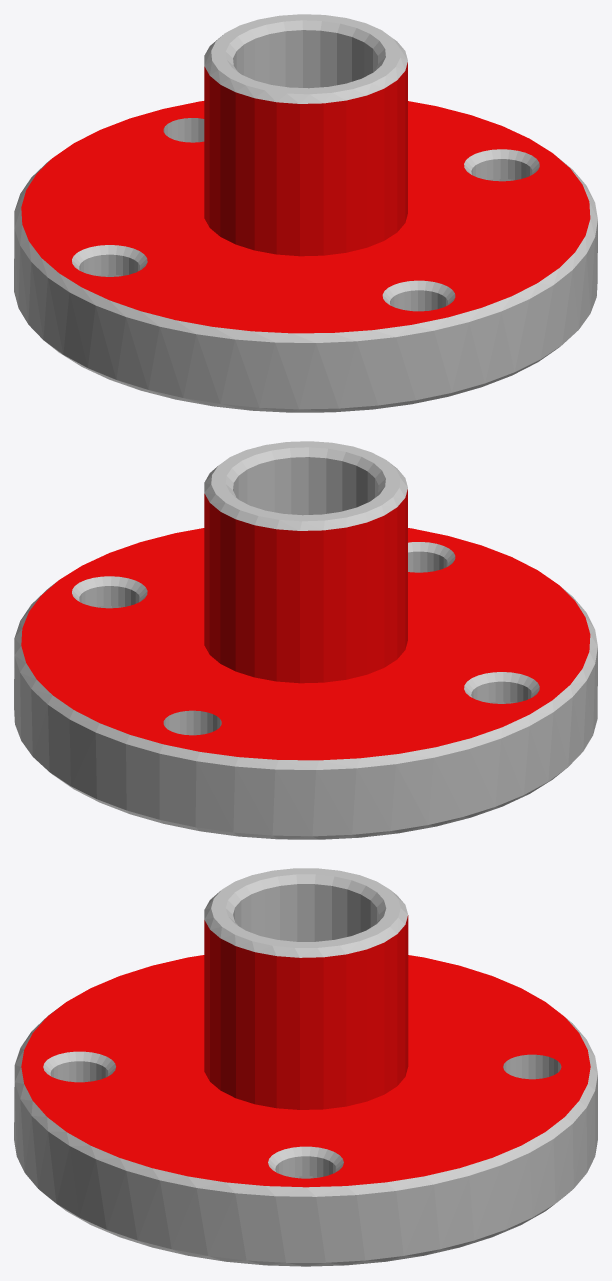
The model's file is 953880_RW44_IT48_stp_4_5.obj.
3 views of the same model, one above another, from view 1: azimuth 30°, elevation 25°; view 2: azimuth 150°, elevation 25°; view 3: azimuth 270°, elevation 25° (orthographic).
Parts seen in each view (by area): view 1: Object1; view 2: Object1; view 3: Object1.
Boxes of the visible parts, left/top/right/bottom form: Object1: left=14, top=14, right=597, bottom=412; Object1: left=14, top=441, right=597, bottom=839; Object1: left=14, top=868, right=597, bottom=1266.
Bounding box in the file's own units: 39.98 × 18 × 40.
